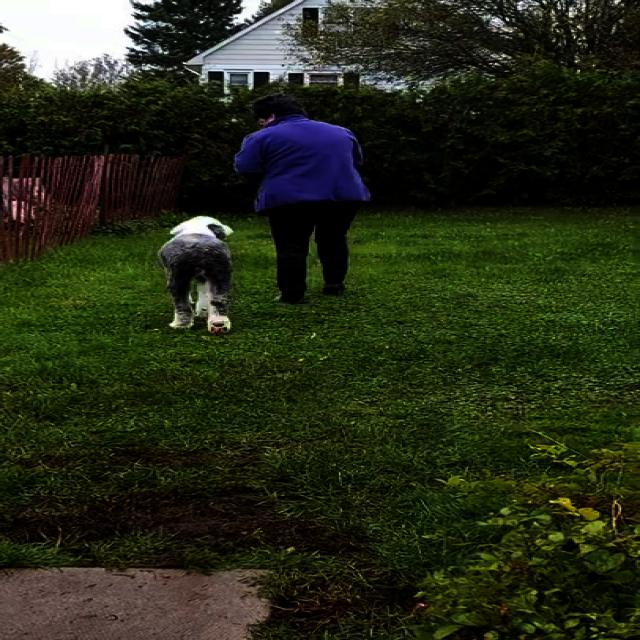Unleashed_Dog: (158, 213, 318, 334)
